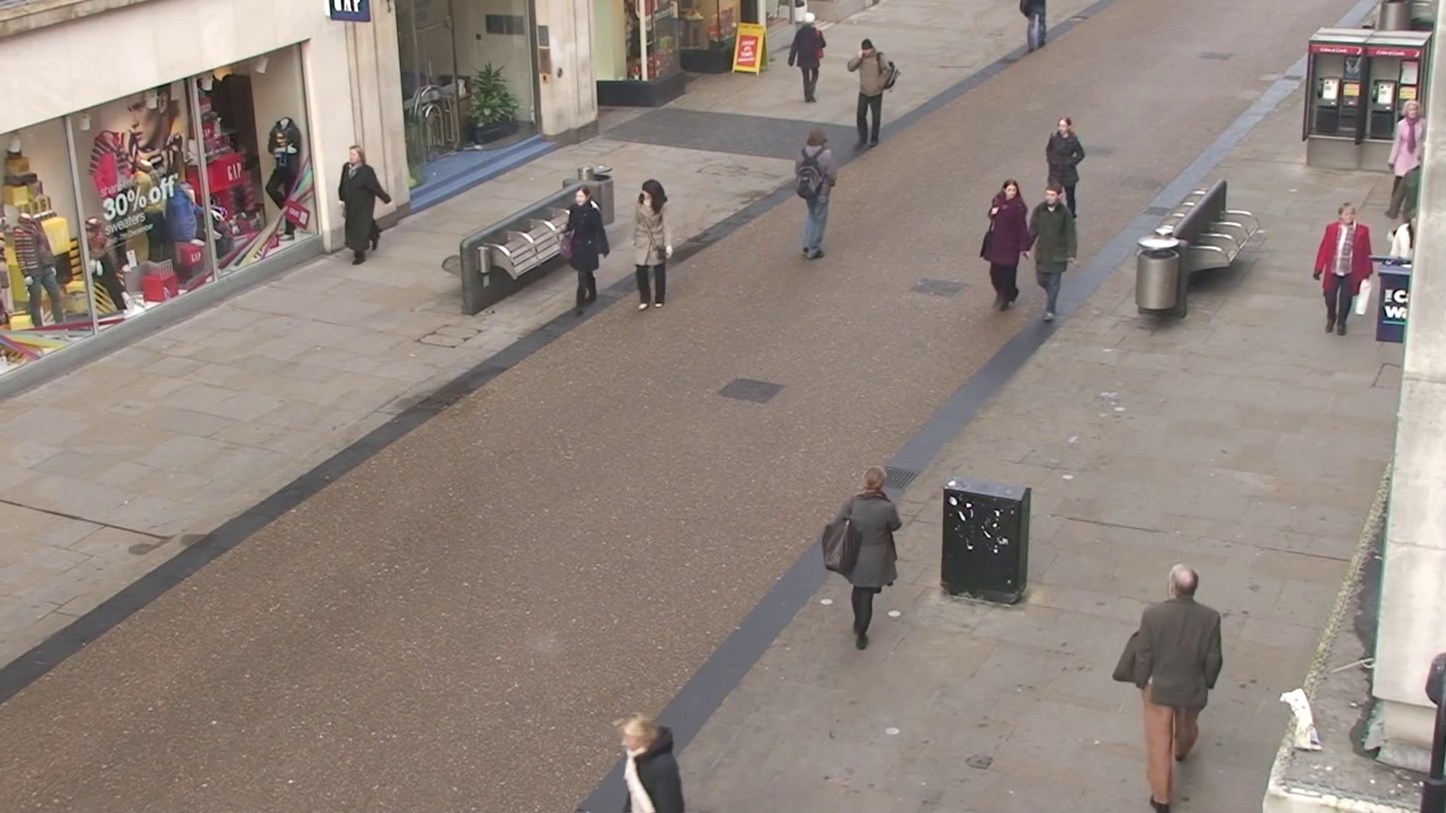person: (1113, 564, 1226, 811), (825, 467, 902, 651), (1313, 201, 1372, 336), (979, 178, 1035, 312), (1028, 184, 1078, 321), (618, 715, 687, 813), (563, 186, 611, 312), (793, 127, 838, 261), (337, 143, 386, 265), (848, 36, 898, 150), (631, 178, 673, 309), (1387, 95, 1426, 229), (1045, 115, 1086, 209), (789, 7, 827, 103)
